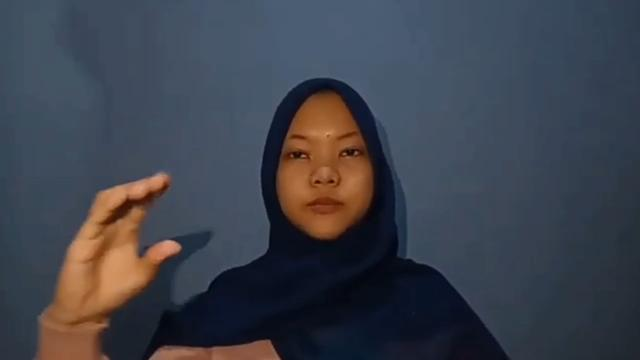C: (56, 172, 182, 320)
